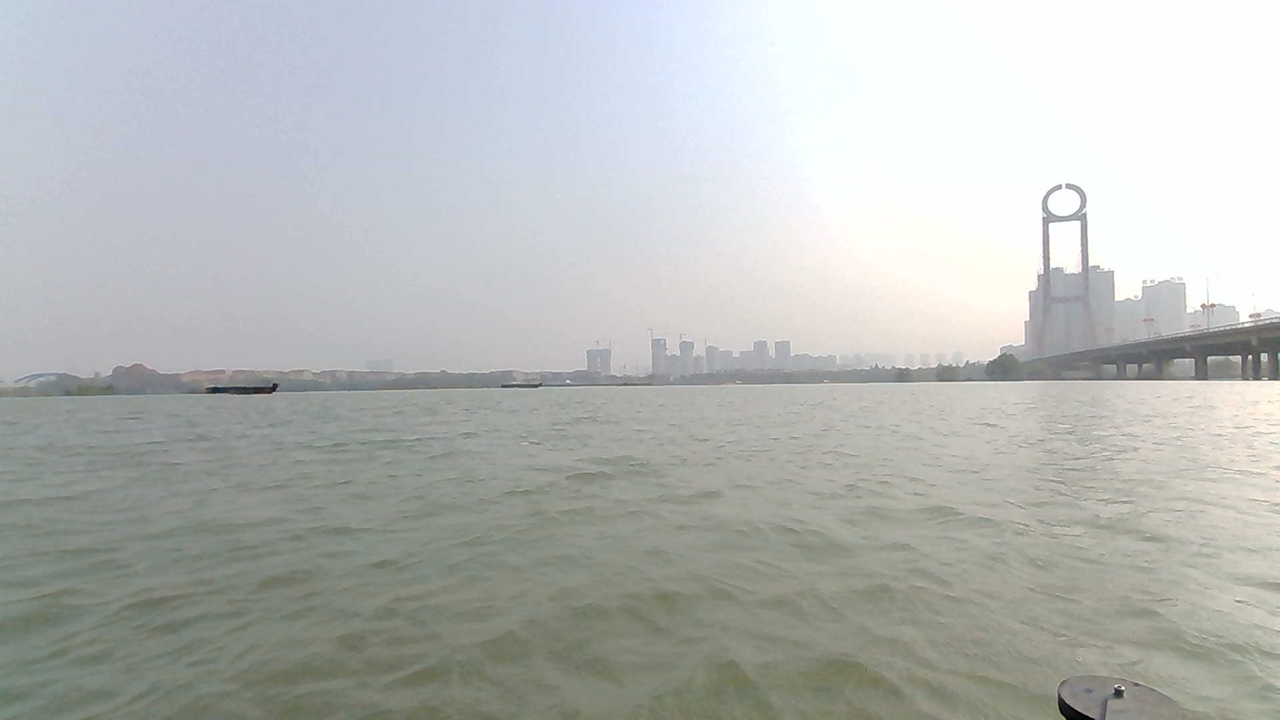bottle: (517, 429, 553, 448)
